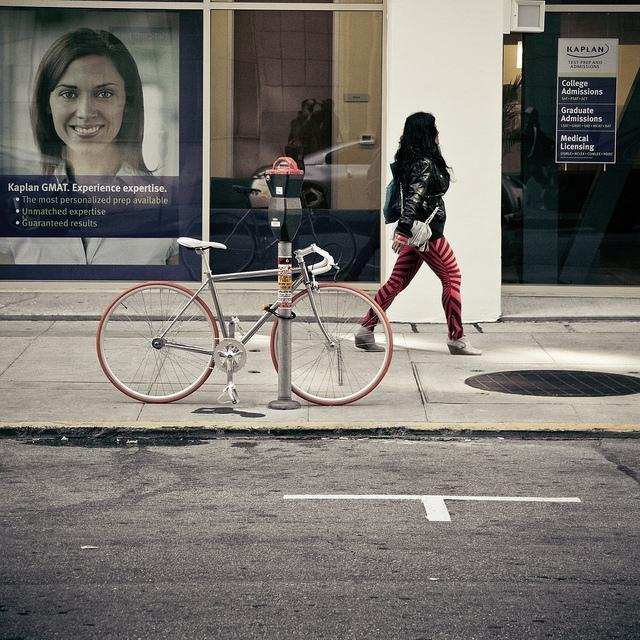bicycle: (95, 233, 394, 408)
